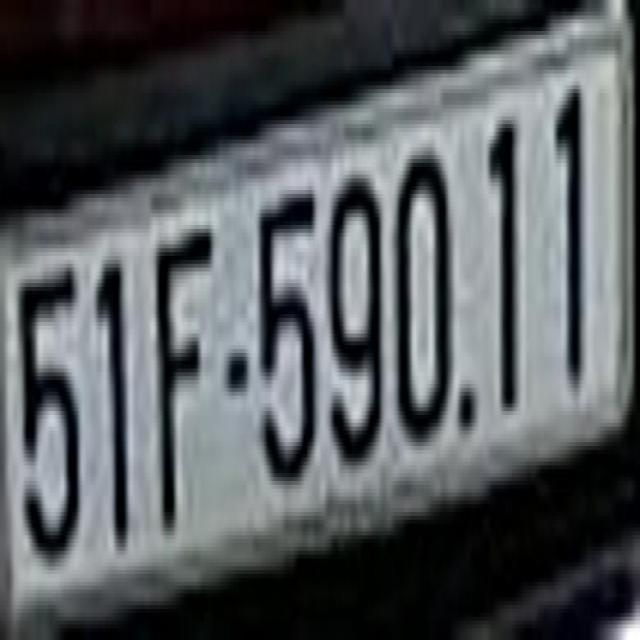0: (397, 128, 451, 446)
1: (485, 101, 523, 419), (553, 58, 588, 400), (96, 268, 128, 562)
5: (18, 260, 80, 555), (262, 170, 314, 466)
9: (330, 170, 377, 454)
F: (158, 221, 219, 528)
